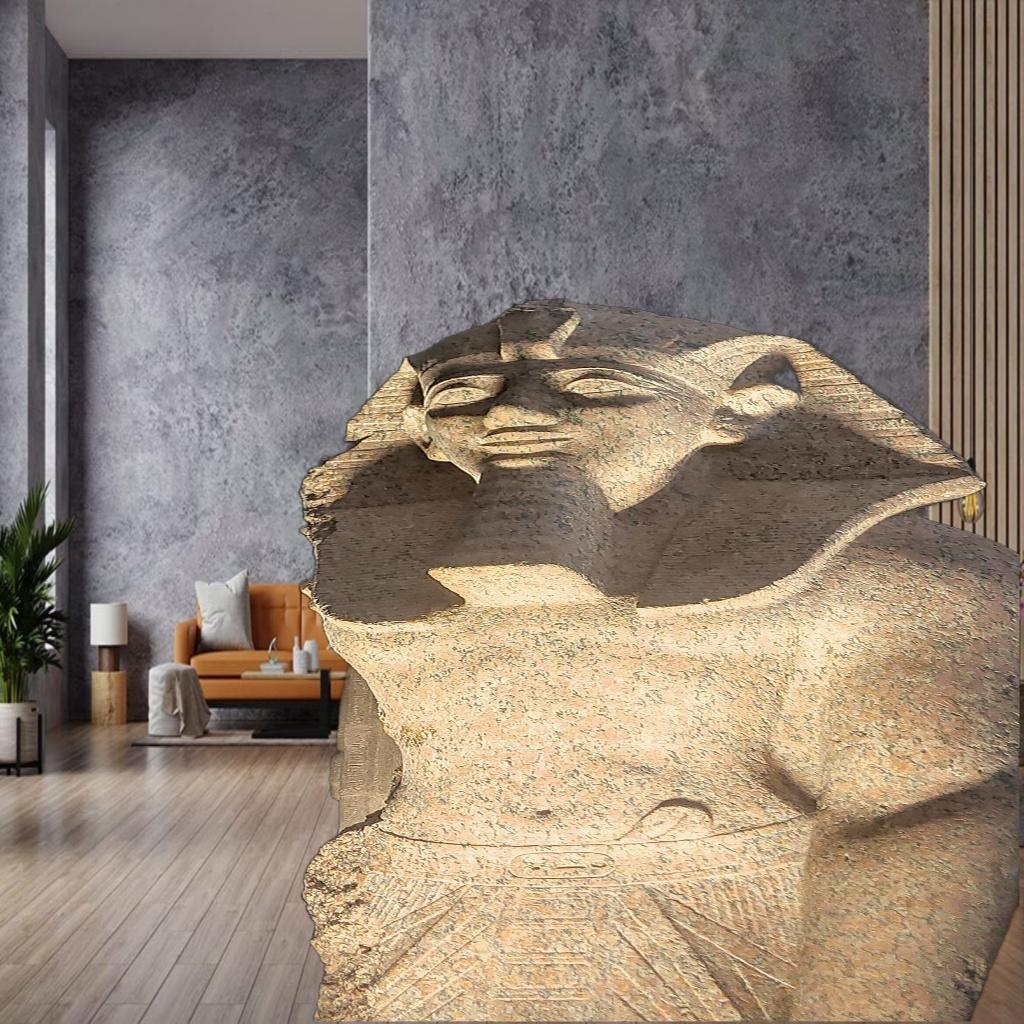Standing Statue of Thutmose III: (288, 296, 1020, 1022)
